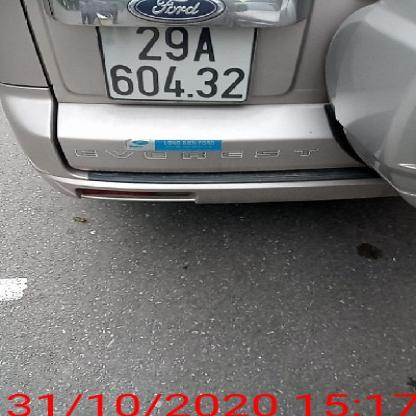biensoxe: (93, 21, 257, 108)
